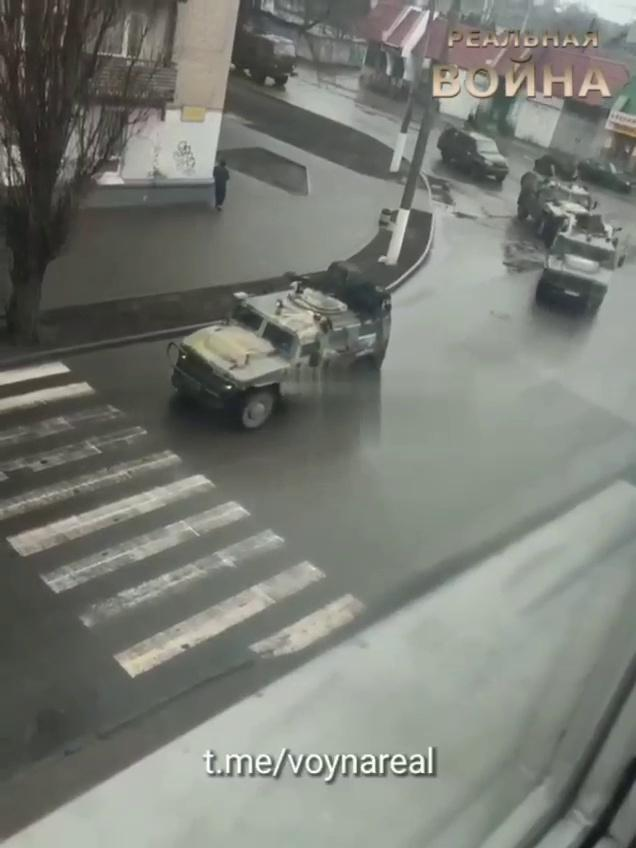armored_car: (167, 260, 392, 432), (536, 208, 628, 308), (516, 163, 592, 234)
car: (438, 125, 510, 185), (578, 158, 634, 192)
truck: (232, 22, 306, 94)
